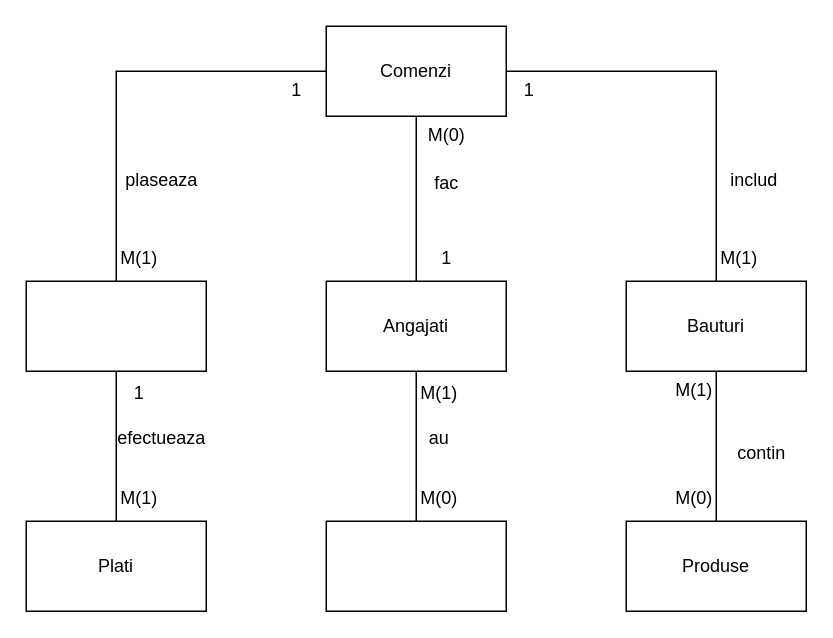
The diagram is 833 pixels wide and 638 high, and some of its shapes have lost their labels. The shapes that lost their labels are listed below. From the top down, each one's centre as x and y in pixels, then its label:
At (x=115, y=325): "Clienti".
At (x=415, y=565): "Zile_lucrate".
